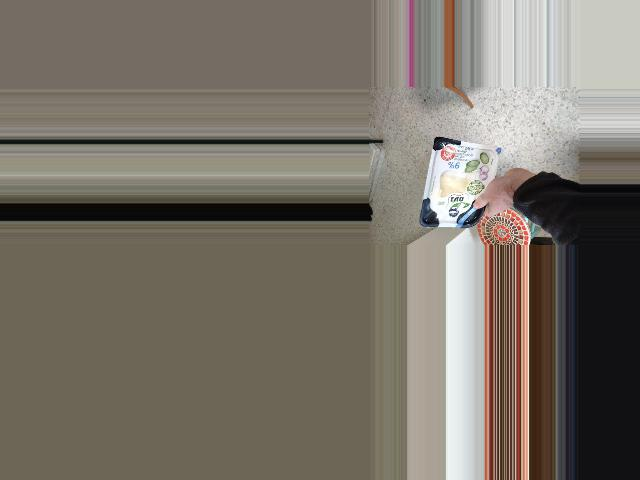cheese: (443, 145, 513, 213)
